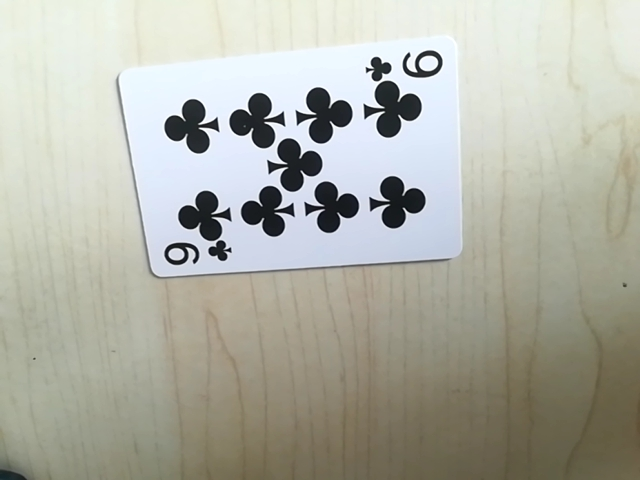mh 9: (365, 46, 449, 84), (157, 236, 231, 272)
